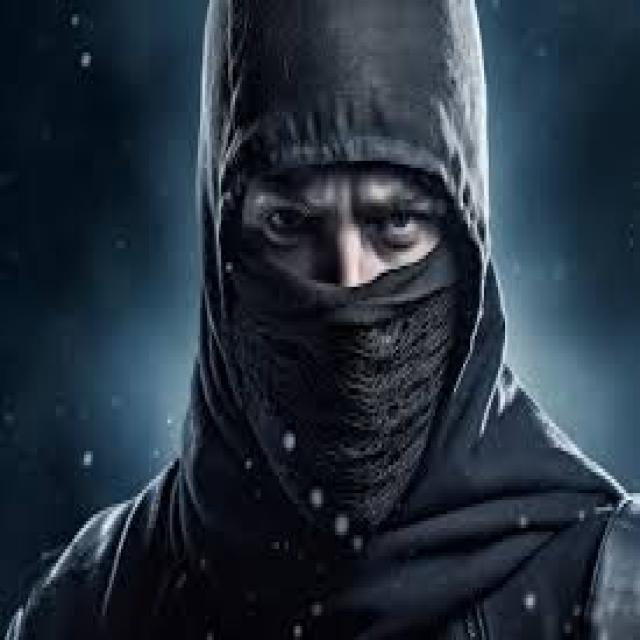person-with-mask: (69, 2, 640, 630)
